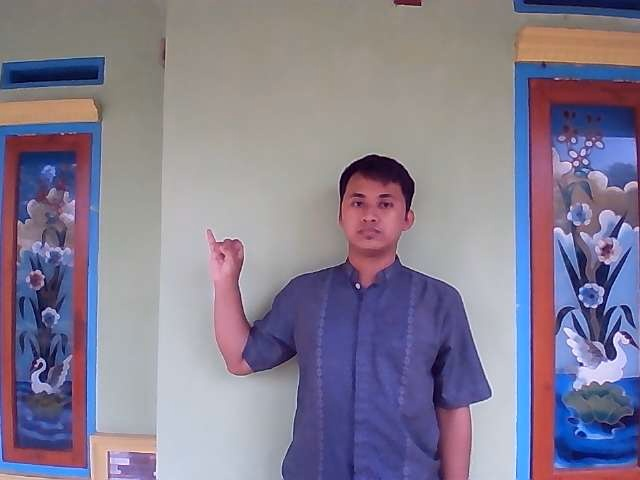I: (196, 221, 255, 301)
